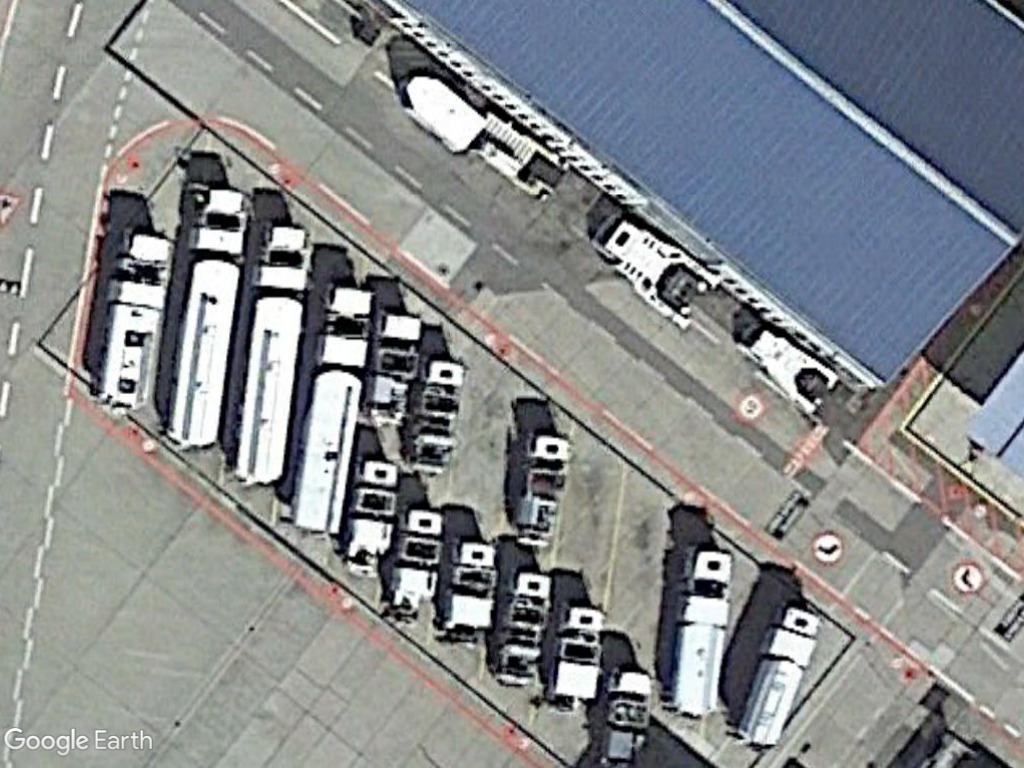longvehicle: (228, 219, 315, 490)
others: (277, 282, 378, 540), (159, 184, 255, 455), (89, 227, 175, 414), (732, 609, 823, 755), (667, 545, 735, 724)
pushback: (596, 203, 731, 336), (741, 313, 845, 417)
